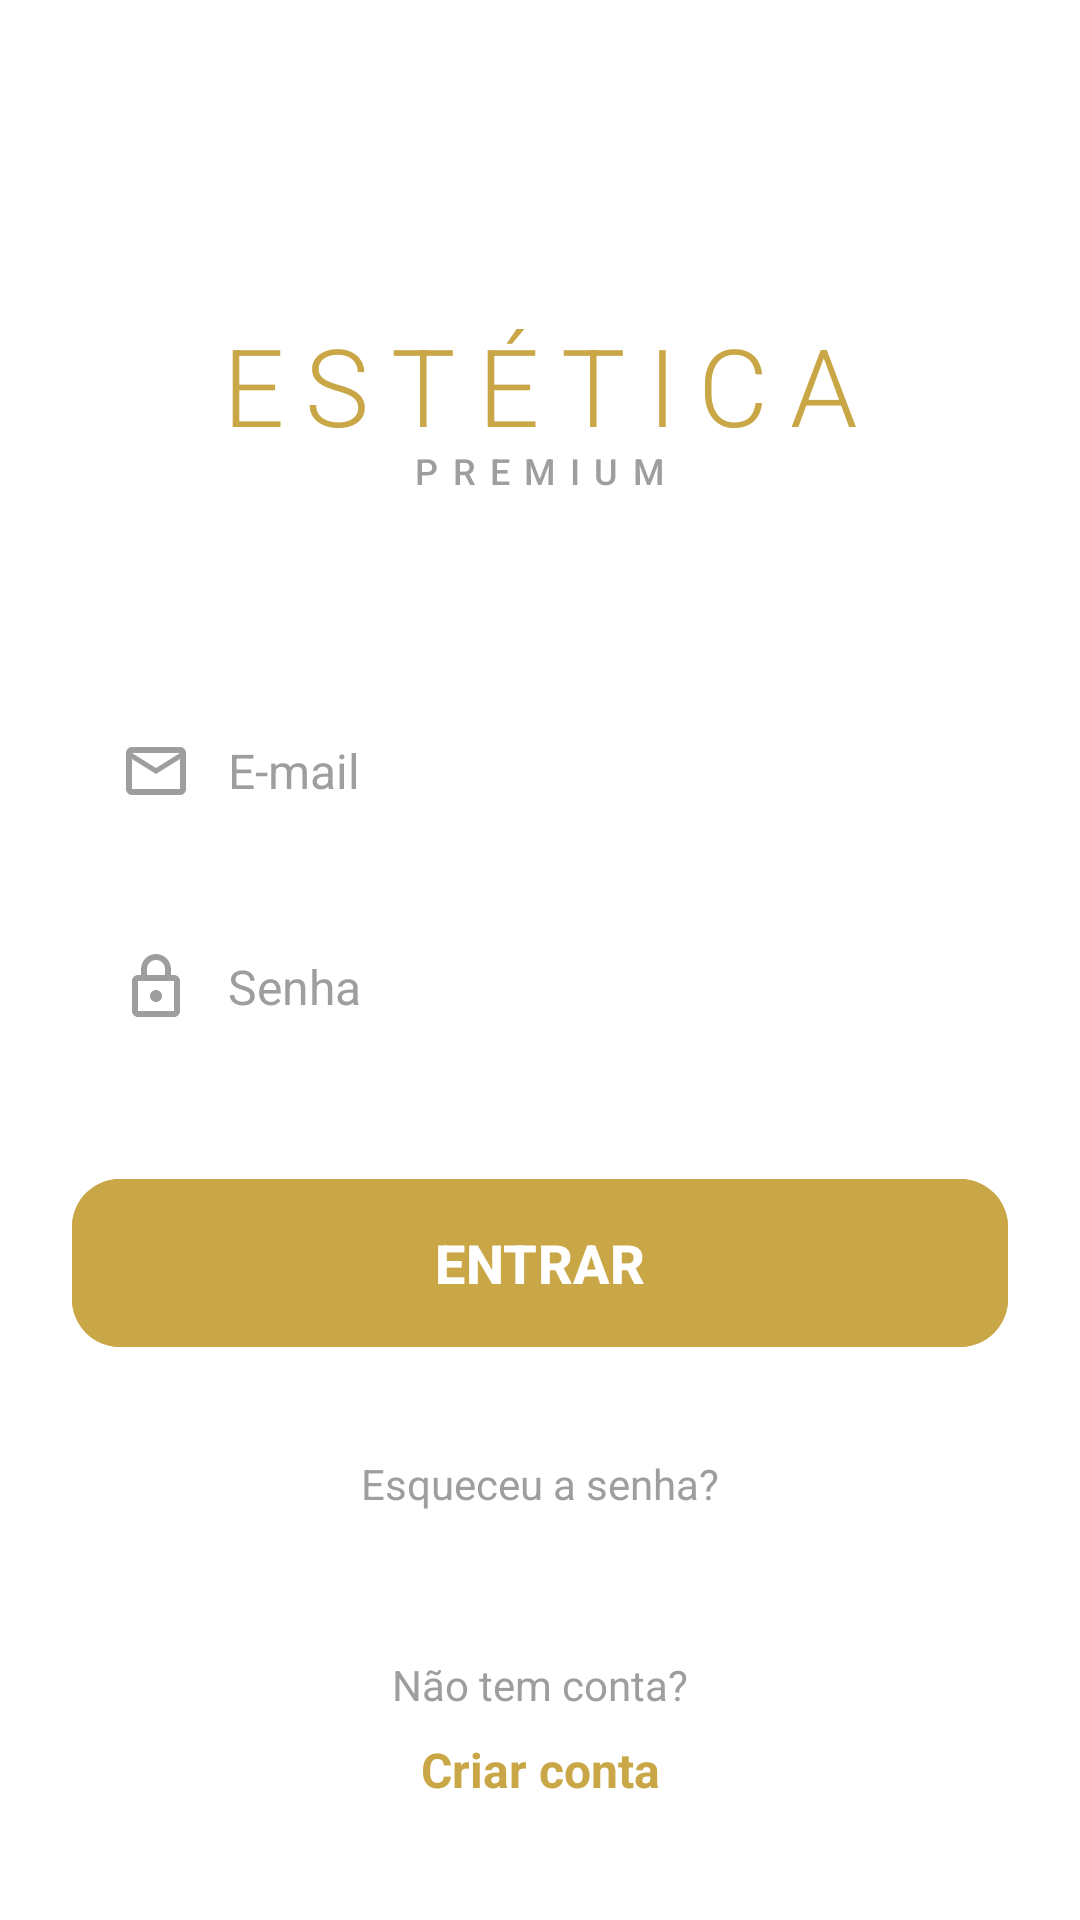

Icon bounding boxes for this 1080px x 1920px phone screenshot, format (x1, y1, x2, y2):
icon password: (132, 954, 180, 1017)
